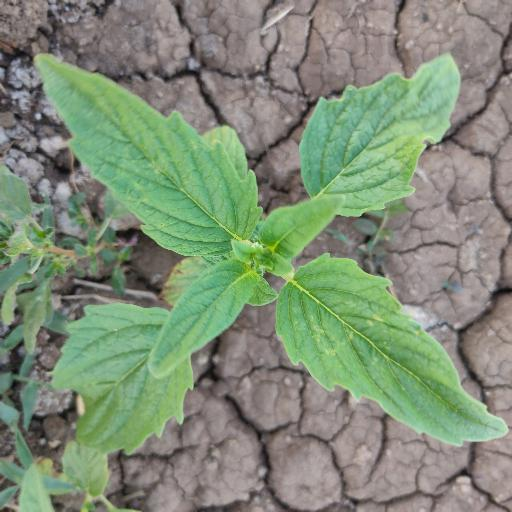crop: (24, 46, 502, 461)
